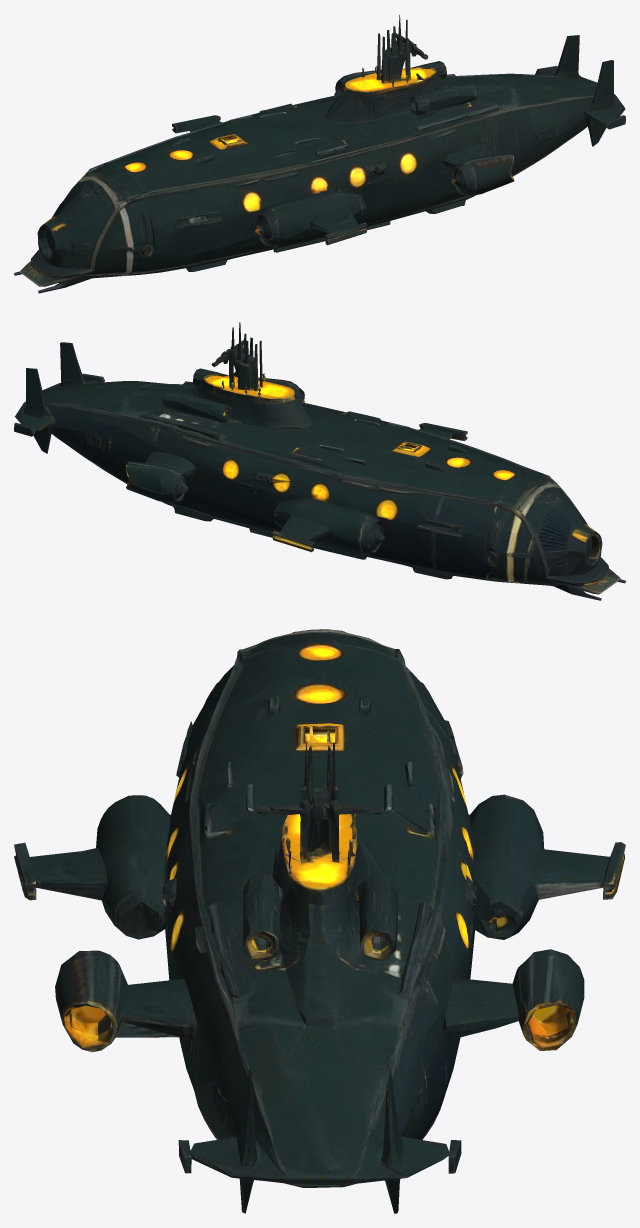
File: nation-j-carrier.glb
The picture shows the model from 3 angles, top to bottom: view 1: azimuth 30°, elevation 25°; view 2: azimuth 150°, elevation 25°; view 3: azimuth 270°, elevation 25°; orthographic projection. The views are drawn at different scales.
Bounding box in the file's own units: 1.9 × 0.5808 × 0.882.
1 material, 1 textured.
